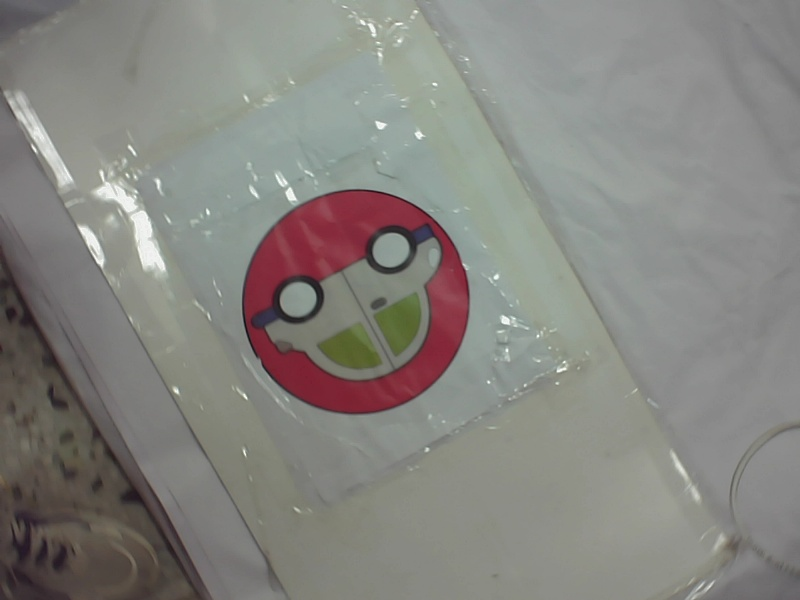areaC: (226, 184, 503, 424)
